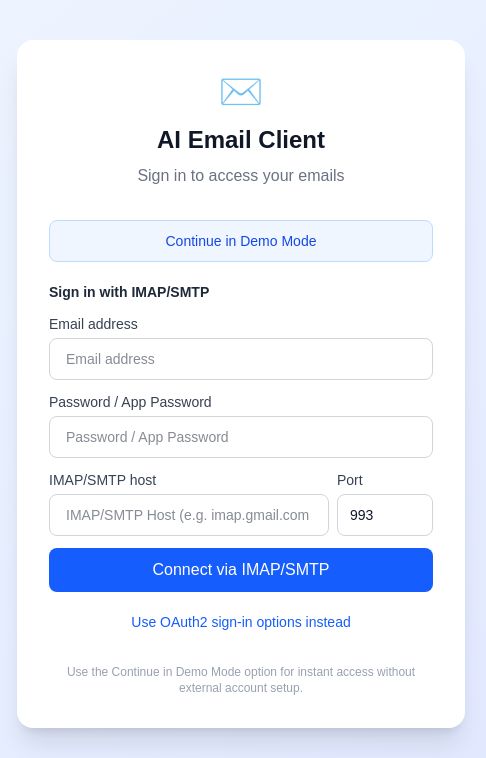
Test: LoginPage › shows a Microsoft-specific hint on credentials failure
In the field labelled "Email address": (241, 359) x1=49 y1=338 x2=433 y2=380, type "person@outlook.com"
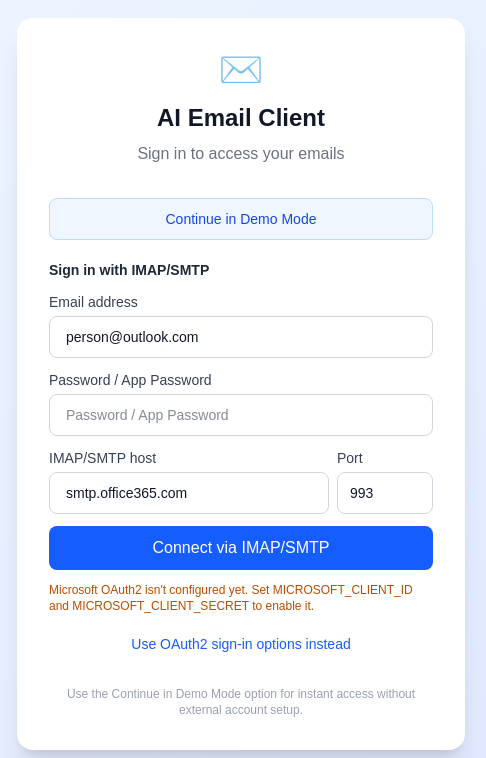
In the password field labelled "Password / App Password": (241, 415) x1=49 y1=394 x2=433 y2=436, type "bad-password"
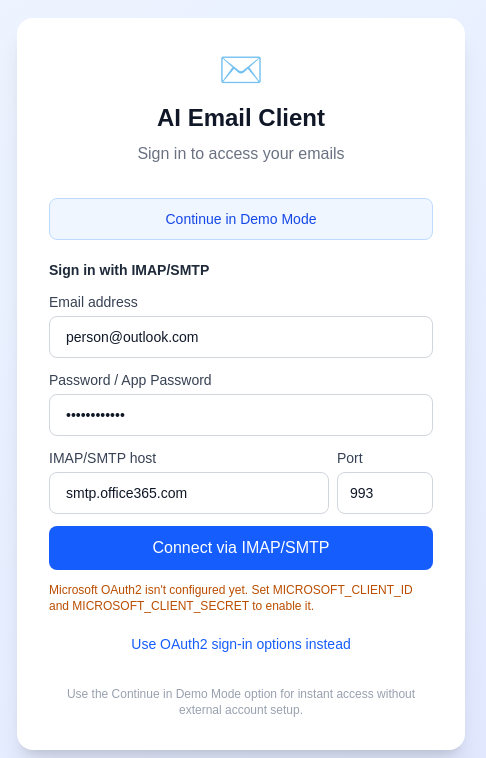
Click the button "Connect via IMAP/SMTP": (241, 548) x1=49 y1=526 x2=433 y2=570
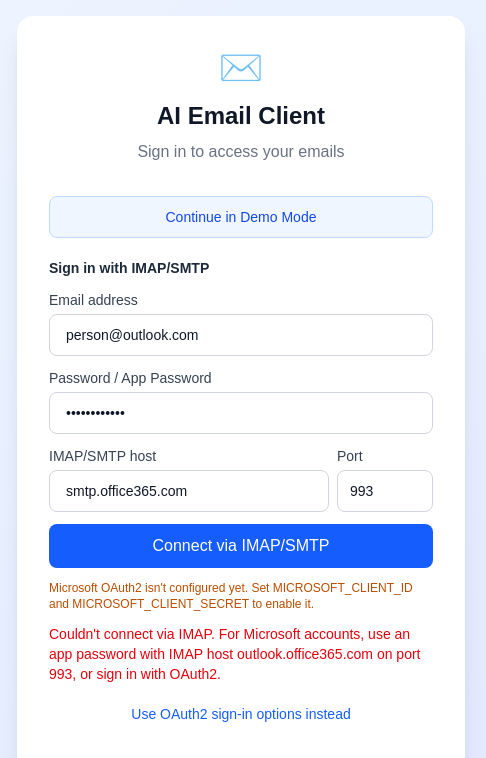
Result: the message shows "For Microsoft accounts" at x1=49 y1=626 x2=420 y2=682
Result: the message shows "outlook.office365.com" at x1=49 y1=626 x2=420 y2=682
Result: the message shows "oauth2" at x1=49 y1=626 x2=420 y2=682
